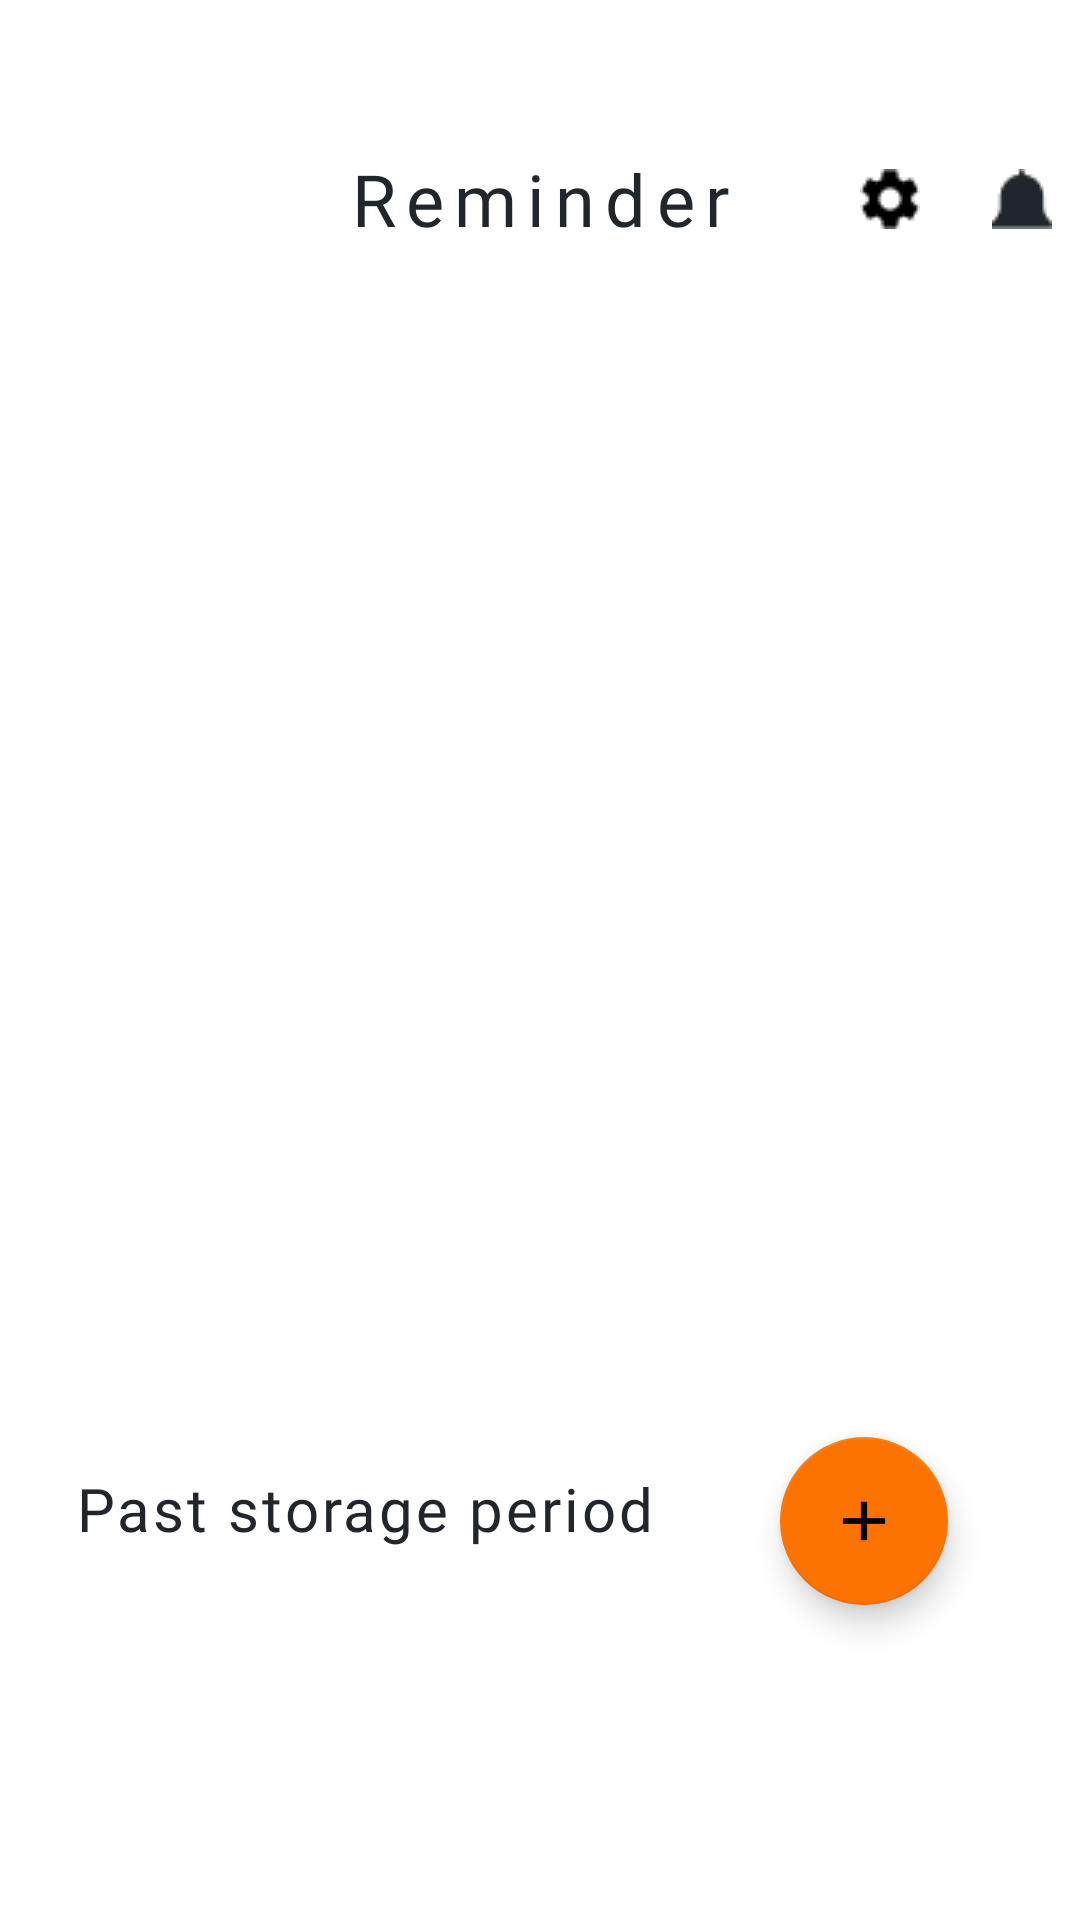

Icons on this 1080w x 1920h Android screen, each with the point to tap as [x,y]:
notif: [1022,199]
plus: [864,1521]
set: [890,199]
